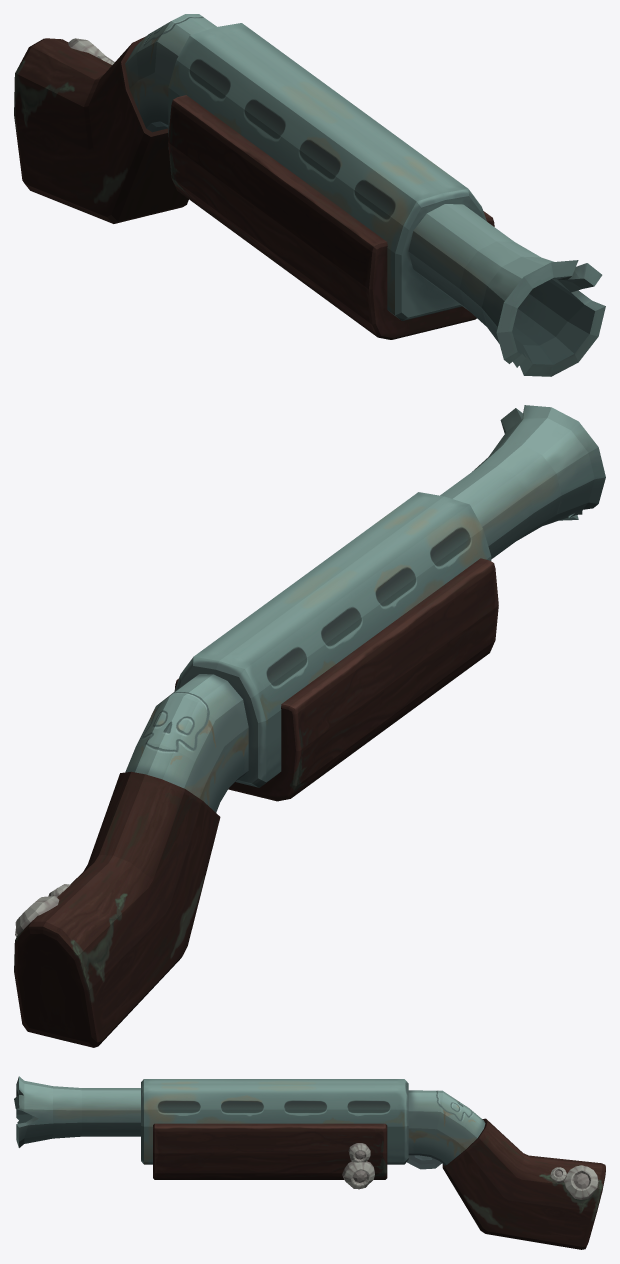
Rendered from SEA_SHOTGUN.fbx.
3 renders of one model, top to bottom at view 1: azimuth 30°, elevation 25°; view 2: azimuth 150°, elevation 25°; view 3: azimuth 270°, elevation 25°, orthographic. The views are drawn at different scales.
Parts seen in each view (by area): view 1: Plane, Plane.002, Plane.001, Cube; view 2: Plane.002, Plane, Plane.001, Cube; view 3: Plane.002, Plane, Plane.001, Cube, Circle.003, Circle, Circle.001, Plane.003.
Boxes of the visible parts, x1,y1,x2,y2 form: Plane: (168,23,486,320); Plane.002: (14,14,216,223); Plane.001: (168,95,494,339); Cube: (408,204,605,376); Plane.002: (14,674,248,1047); Plane: (174,492,491,787); Plane.001: (175,558,498,801); Cube: (440,405,605,559); Plane.002: (408,1090,605,1249); Plane: (141,1079,408,1164); Plane.001: (153,1123,387,1179); Cube: (14,1076,140,1147); Circle.003: (564,1165,598,1199); Circle: (342,1161,374,1189); Circle.001: (348,1143,370,1162); Plane.003: (407,1155,441,1169).
Size of the model in its own units: 1244 by 7621 by 2276.
